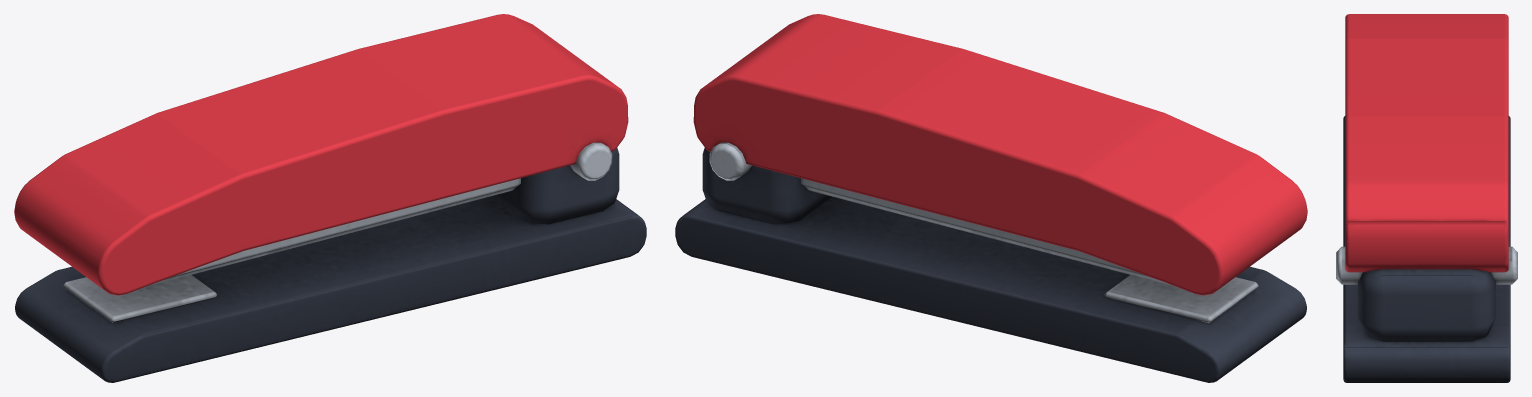
The model's file is stapler.glb.
3 views of the same model, side by side, from view 1: azimuth 30°, elevation 25°; view 2: azimuth 150°, elevation 25°; view 3: azimuth 270°, elevation 25° (orthographic). The views are drawn at different scales.
Parts seen in each view (by area): view 1: stapler; view 2: stapler; view 3: stapler.
Part boxes in pixels (box(x1,y1,x2,y2)): stapler: box(14, 14, 646, 382); stapler: box(675, 14, 1307, 382); stapler: box(1336, 14, 1517, 382).
Bounding box in the file's own units: 0.1631 × 0.0545 × 0.05.
3 materials, 3 textured.
